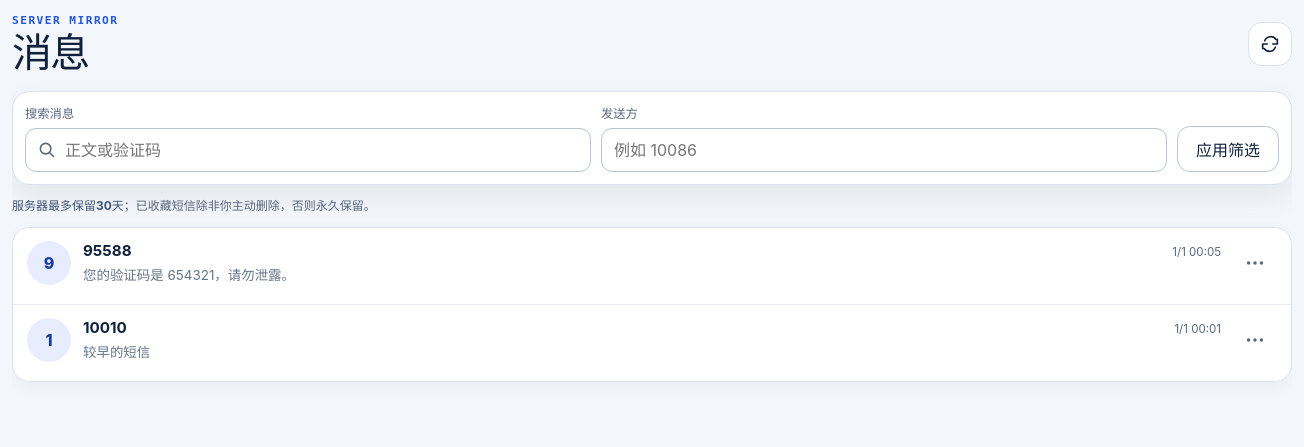
it: MessagesView › 按真实时间倒序展示常规短信摘要并保留可复制验证码
The image size is (1304, 447).
Expected: the text "95588" is shown, [83,241,132,262]
Expected: the element with class "sms-card" shows "95588", [83,241,1221,285]
Click the element with class "sms-card" that starts with "您的验证码是 654321，请勿泄露。". click: (652, 266)
box: [13,228,1291,304]
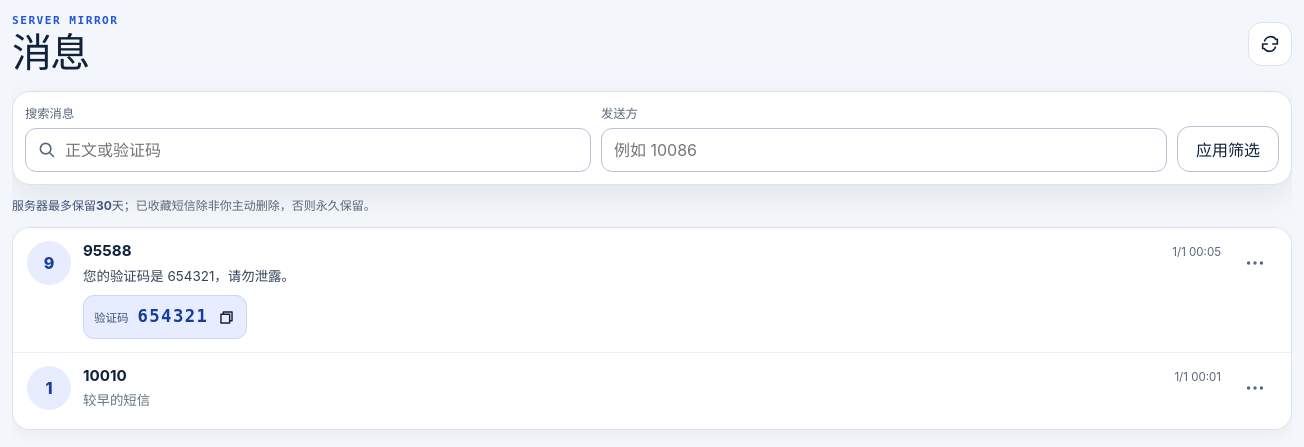
Now the button with aria-label "复制验证码 654321" is shown, box [83,295,247,339]
